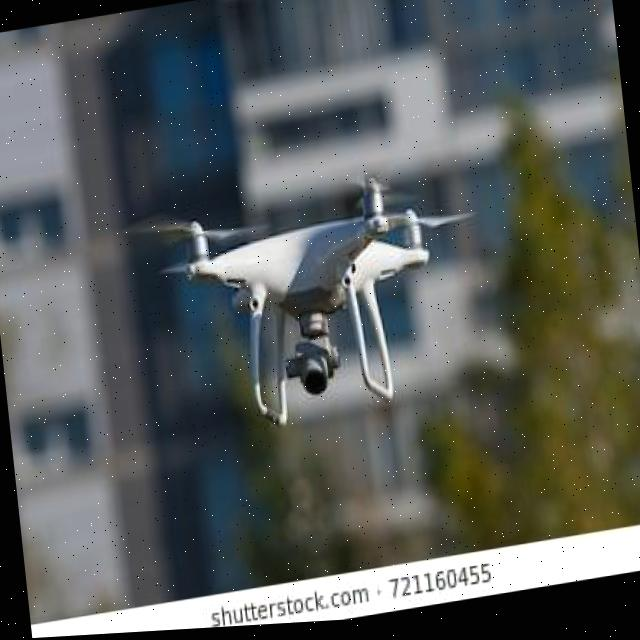drone: (130, 166, 497, 453)
